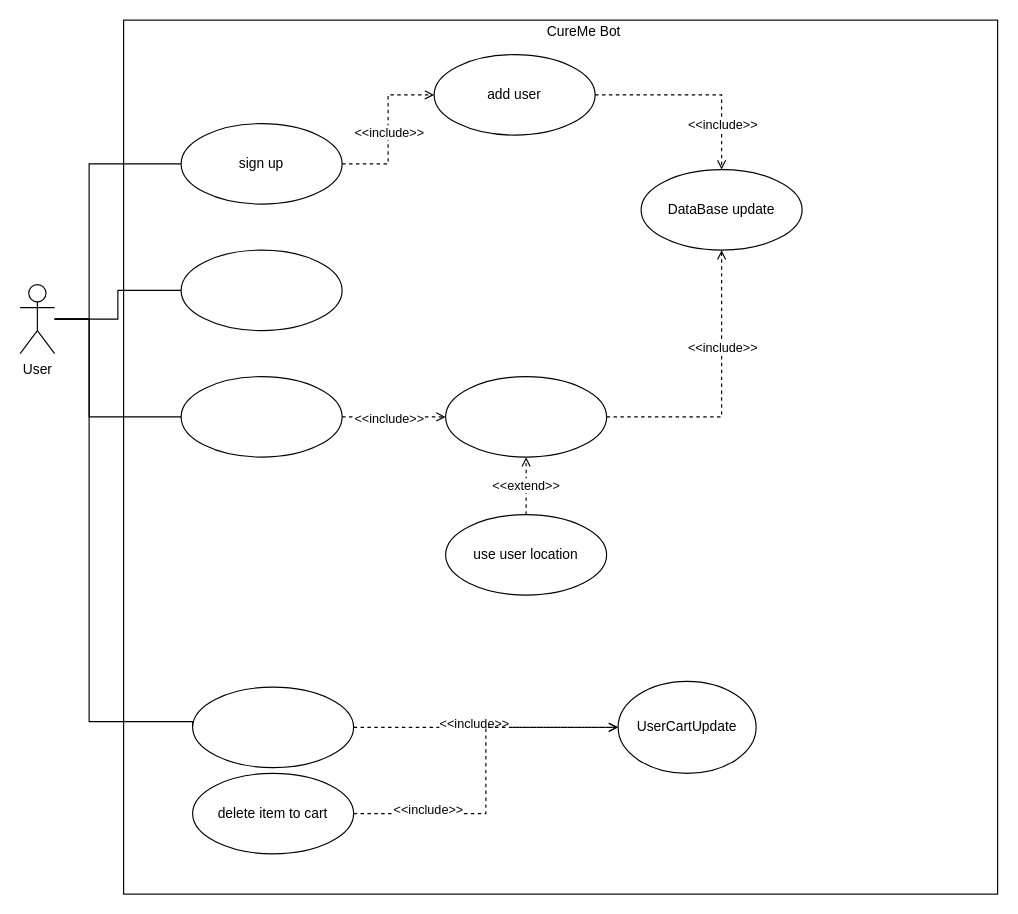
Some shapes in this 1018 by 914 pixel diagram are drawn without their labels. The shapes that lost their labels are listed below. From the top down, each one's centre as x and y in pixels, then its label:
At point (261, 290): "look for medicine".
At point (261, 416): "update location".
At point (525, 416): "enter new address".
At point (272, 727): "add item to cart".
